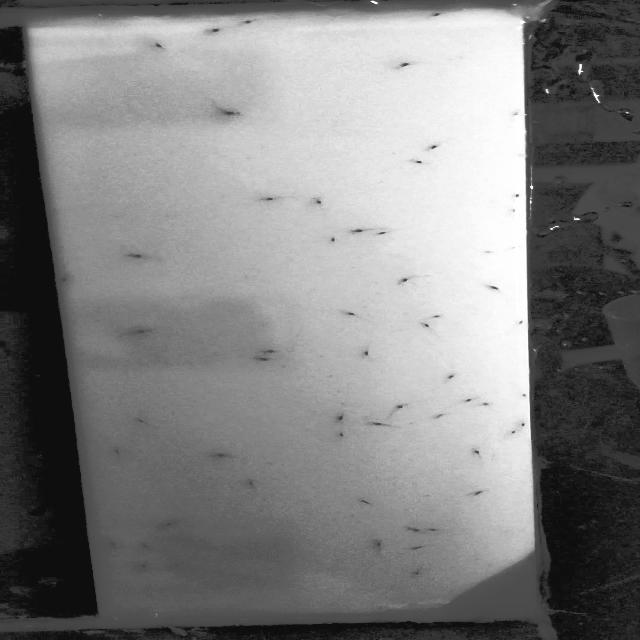shrimp: (394, 272, 440, 288), (106, 446, 138, 463), (158, 514, 188, 532), (471, 283, 506, 298), (229, 14, 263, 28), (213, 107, 247, 121), (476, 244, 506, 259), (125, 326, 156, 340), (500, 242, 526, 258), (131, 412, 155, 428), (304, 194, 328, 209), (101, 538, 124, 553), (423, 524, 453, 535), (402, 568, 429, 580), (148, 38, 171, 52), (58, 272, 78, 288), (463, 488, 495, 498), (368, 416, 392, 429), (404, 156, 429, 168), (506, 316, 529, 329), (260, 194, 284, 206), (130, 250, 148, 266), (133, 561, 157, 573), (239, 478, 261, 491), (324, 232, 343, 247), (470, 448, 491, 461), (414, 320, 440, 330), (501, 426, 524, 437), (354, 493, 372, 507), (212, 448, 230, 462), (369, 536, 387, 550), (408, 544, 430, 555), (203, 24, 227, 34), (397, 58, 417, 70), (429, 310, 446, 324), (346, 309, 364, 322), (331, 429, 349, 442), (169, 560, 190, 571), (424, 140, 440, 154), (440, 373, 462, 383), (255, 354, 273, 366), (356, 348, 377, 358), (332, 410, 348, 423), (406, 524, 423, 536), (134, 542, 154, 552), (262, 344, 280, 355), (512, 417, 530, 428), (351, 223, 366, 236), (374, 227, 389, 240), (431, 10, 446, 22), (521, 554, 538, 564), (518, 390, 534, 400), (477, 398, 491, 409), (459, 394, 473, 404), (392, 401, 408, 409)
